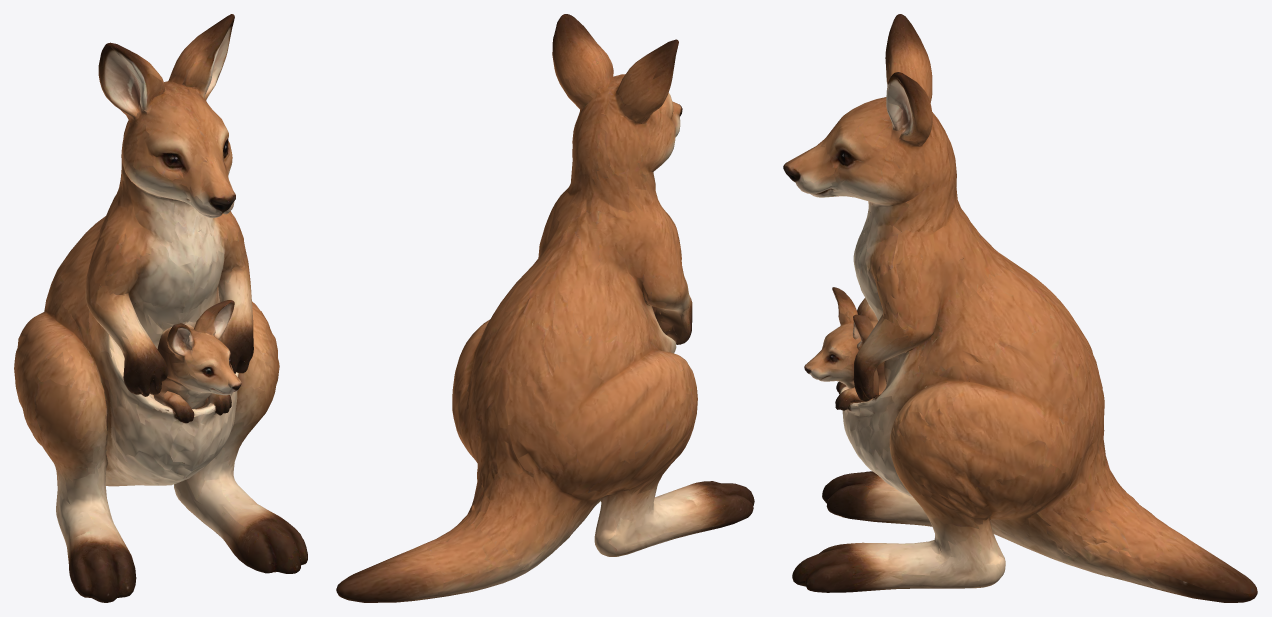
The model's file is upm_mv3pq5933py.glb.
The picture shows the model from 3 angles, left to right: view 1: azimuth 30°, elevation 25°; view 2: azimuth 150°, elevation 25°; view 3: azimuth 270°, elevation 25°; orthographic projection. The views are drawn at different scales.
Bounding box in the file's own units: 0.9315 × 1.9 × 1.62.
Materials: 1 (1 with a texture image).
